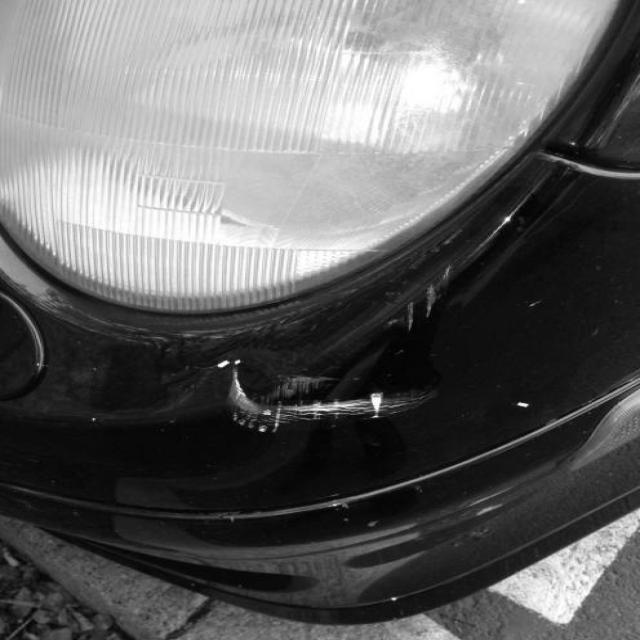scratch: (210, 357, 442, 433), (424, 263, 456, 320), (333, 500, 383, 527), (383, 301, 415, 332), (518, 298, 544, 308), (515, 400, 531, 409)
